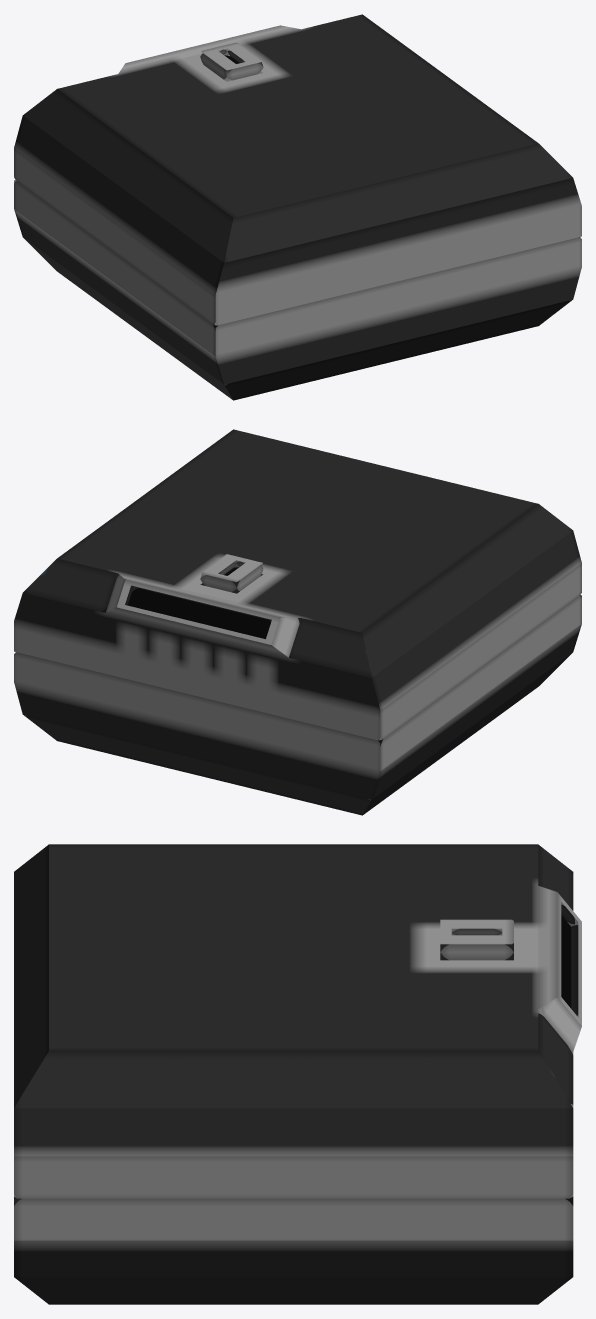
The model's file is LockBoxNew.fbx.
3 renders of one model, top to bottom at view 1: azimuth 30°, elevation 25°; view 2: azimuth 150°, elevation 25°; view 3: azimuth 270°, elevation 25°, orthographic. The views are drawn at different scales.
Visible parts, largest first — view 1: Top, Bottom; view 2: Top, Bottom; view 3: Top, Bottom.
Part boxes in pixels (left/top/right/bottom): Top: left=14, top=14, right=581, bottom=325; Bottom: left=14, top=179, right=581, bottom=400; Top: left=14, top=429, right=581, bottom=740; Bottom: left=14, top=594, right=581, bottom=815; Top: left=14, top=844, right=581, bottom=1198; Bottom: left=14, top=1009, right=573, bottom=1304.
Size of the model in its own units: 105 by 53.12 by 102.
Materials: 1 (1 with a texture image).
